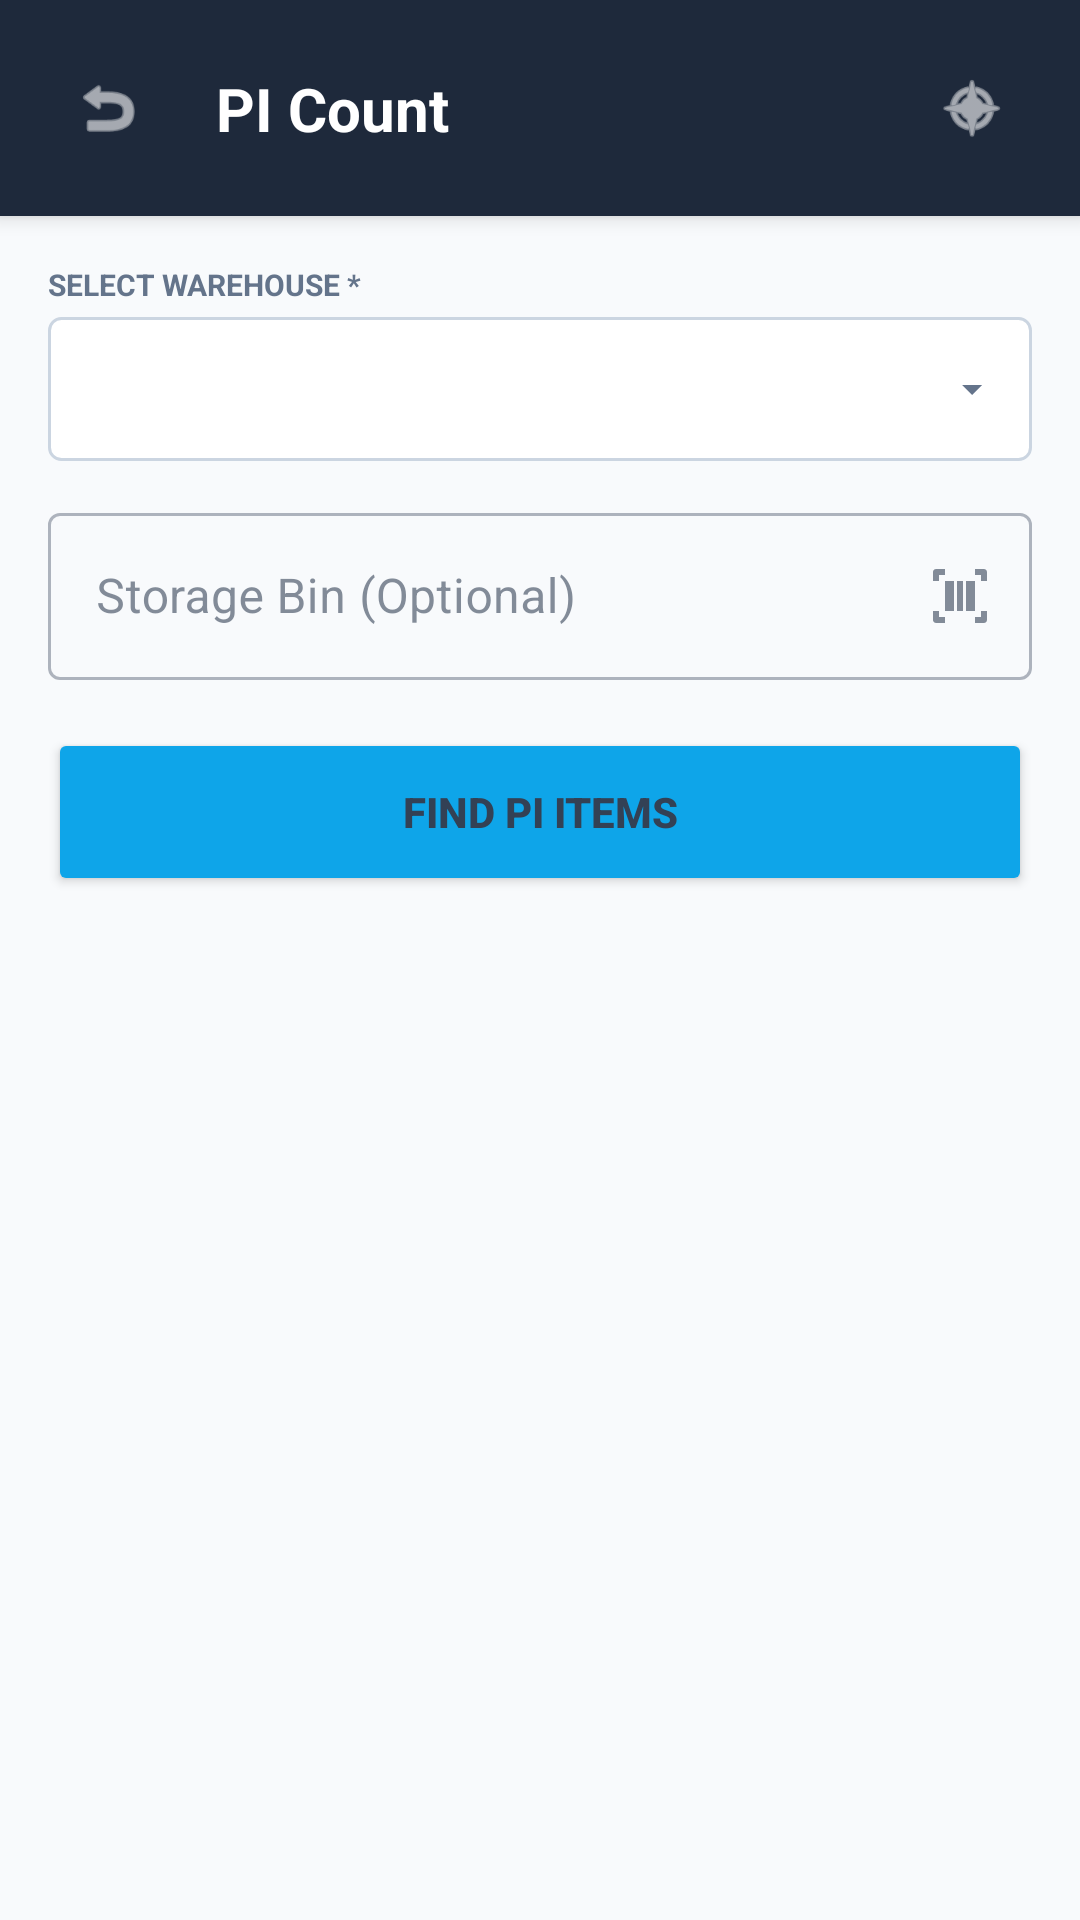

Named icons in this screenshot (1080x1920) and their centers, (x,y):
compass: (971,108)
revert: (109,108)
